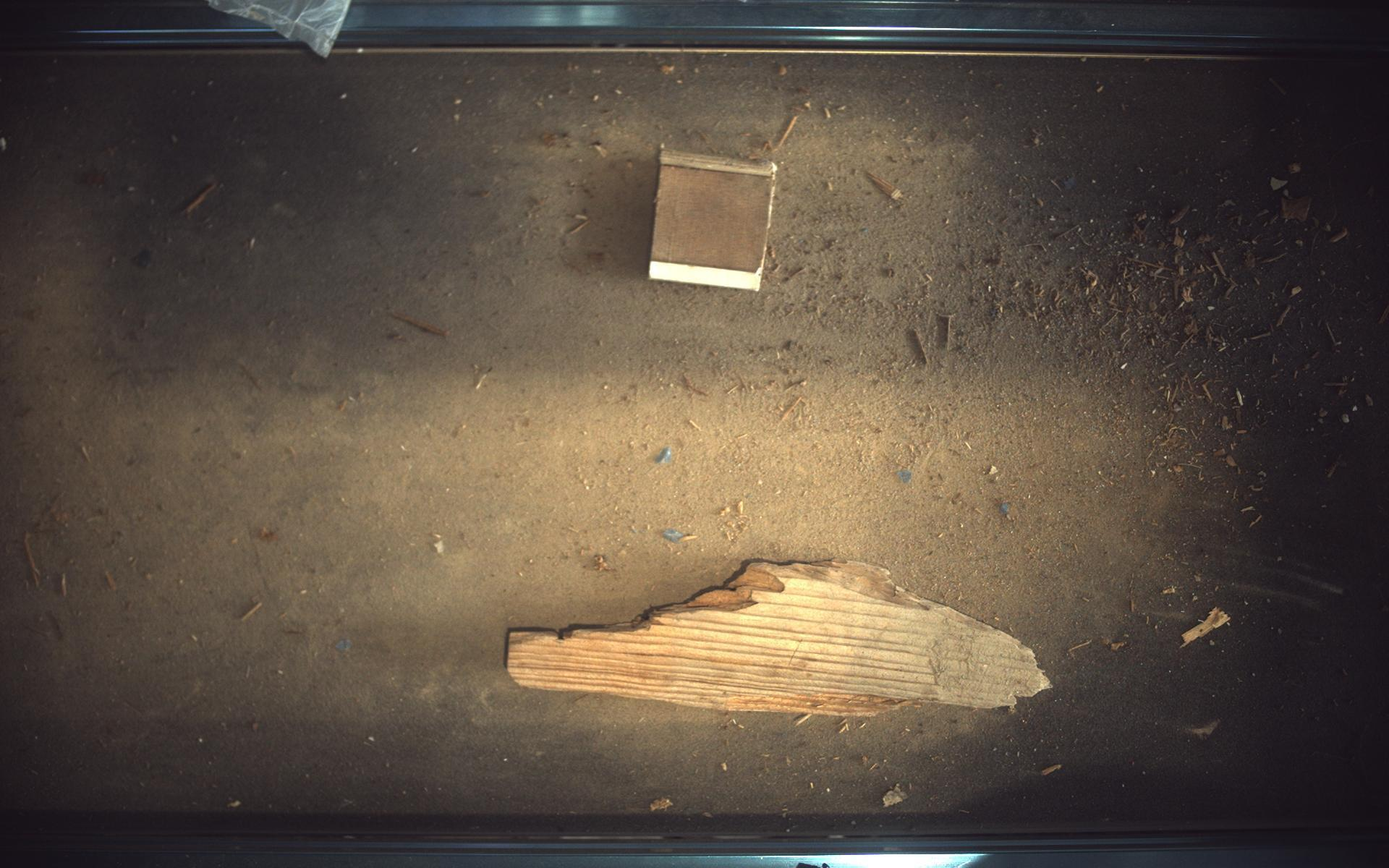wood: (508, 562, 1052, 717), (650, 149, 778, 290)
